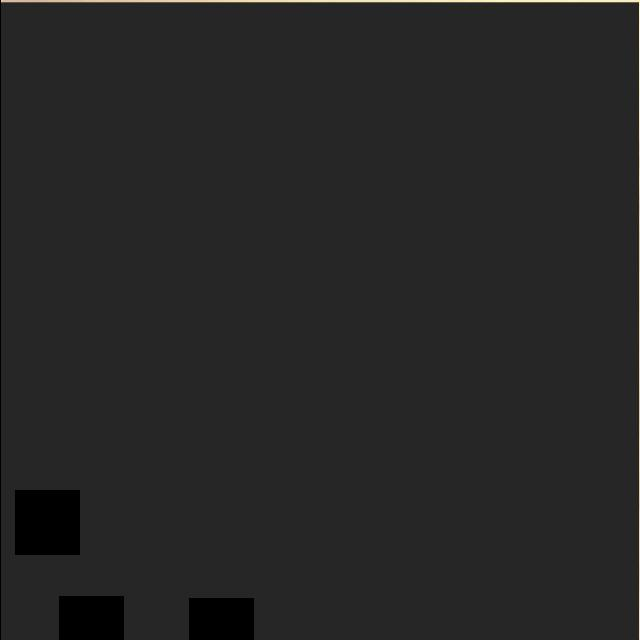smoke: (0, 2, 638, 640)
